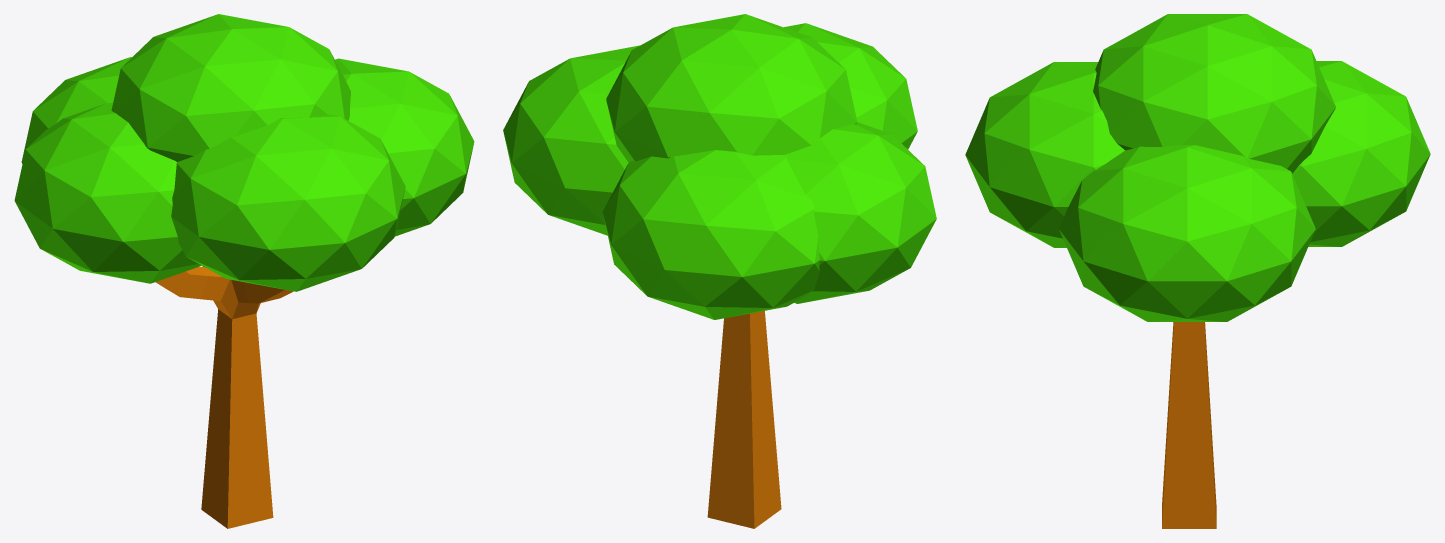
Rendered from tree2.fbx.
3 renders of one model, left to right at view 1: azimuth 30°, elevation 25°; view 2: azimuth 150°, elevation 25°; view 3: azimuth 270°, elevation 25°, orthographic. The views are drawn at different scales.
Visible parts, largest first — view 1: Icosphere.003, Icosphere.004, Icosphere.002, Cube, Icosphere, Icosphere.001; view 2: Icosphere.001, Icosphere.004, Icosphere.002, Icosphere, Cube, Icosphere.003; view 3: Icosphere, Icosphere.004, Icosphere.003, Icosphere.001, Cube.
Boxes of the visible parts, box(x1,y1,x2,y2) form: Icosphere.003: box(171, 114, 405, 291); Icosphere.004: box(111, 14, 350, 161); Icosphere.002: box(14, 102, 201, 283); Cube: box(155, 266, 293, 528); Icosphere: box(335, 58, 474, 236); Icosphere.001: box(21, 57, 131, 163); Icosphere.001: box(602, 150, 819, 319); Icosphere.004: box(606, 14, 857, 162); Icosphere.002: box(785, 122, 936, 303); Icosphere: box(503, 45, 639, 235); Cube: box(707, 311, 781, 528); Icosphere.003: box(784, 23, 917, 149); Icosphere: box(1059, 145, 1315, 321); Icosphere.004: box(1093, 14, 1335, 173); Icosphere.003: box(965, 62, 1124, 247); Icosphere.001: box(1292, 61, 1430, 246); Cube: box(1162, 322, 1216, 528).
Size of the model in its own units: 926 by 1048 by 894.
